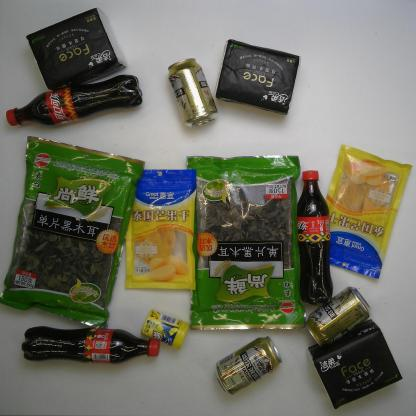Alcohol: (305, 284, 372, 348), (214, 336, 283, 396), (167, 56, 219, 128)
Dried Food: (1, 135, 147, 331), (187, 152, 308, 332)
Dried Fruit: (325, 143, 413, 281), (123, 168, 198, 291)
Drink: (6, 73, 144, 127), (20, 324, 162, 366), (297, 168, 333, 306)
Gum: (141, 308, 191, 350)
Tissue: (307, 318, 404, 410), (25, 7, 128, 92), (212, 38, 302, 116)
